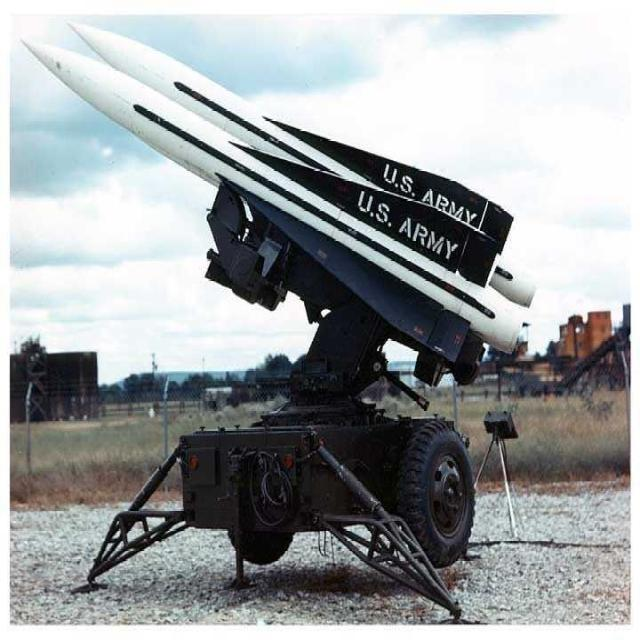missile: (10, 27, 536, 379), (60, 18, 546, 302)
